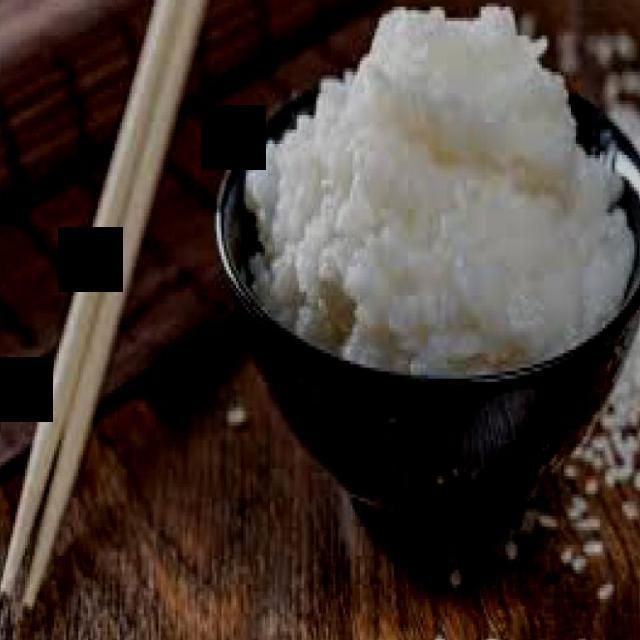Chicken -Chicken Inasal-: (245, 10, 632, 373)
